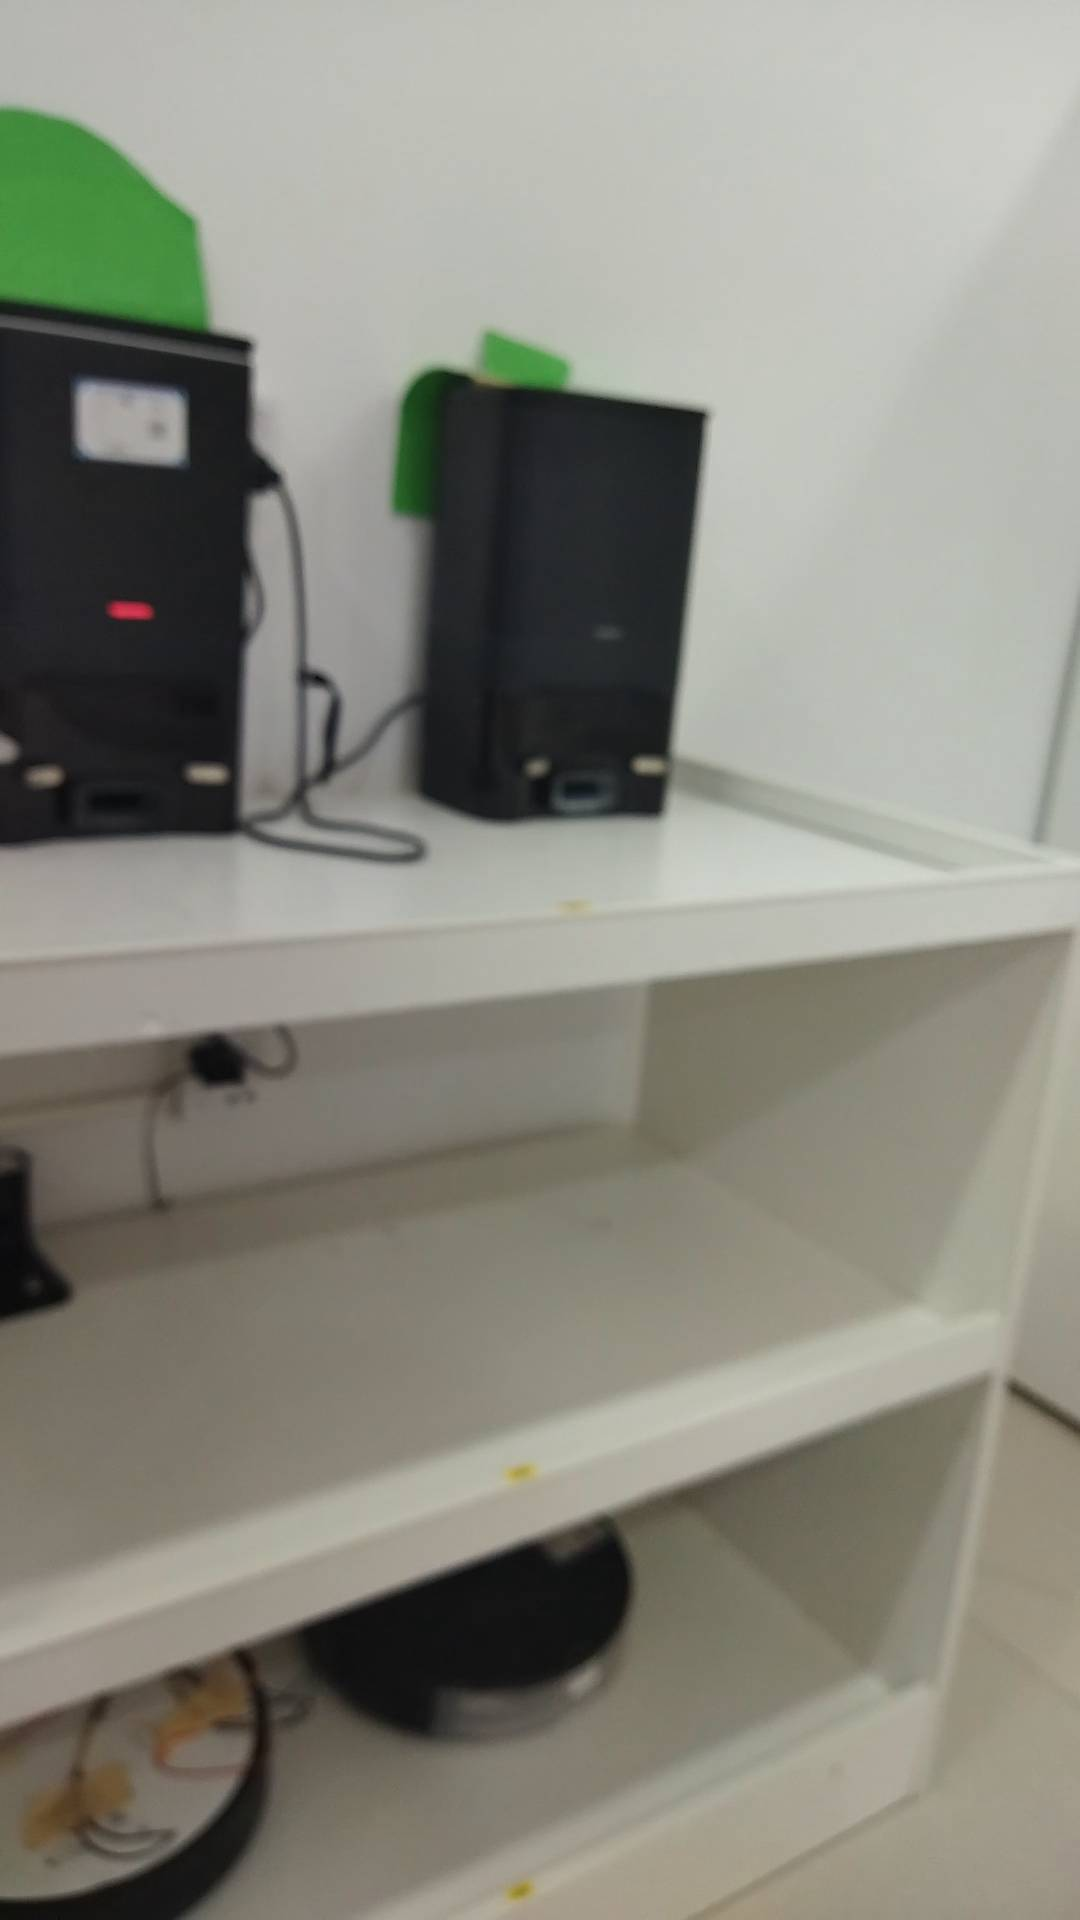dust collecting barrel: (1, 293, 255, 856), (422, 382, 711, 824)
